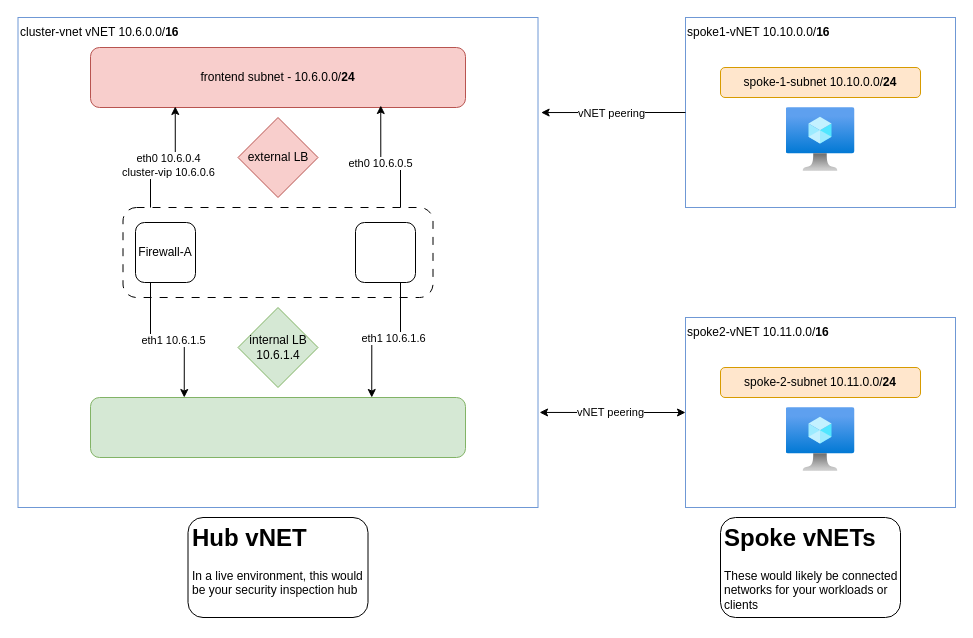
Image size: 973x638. Some labels were removed from this diagram. The shapes that lost their labels are listed below. From the top down, each one's box as (x1, y1, x2, y2) in pixels, then its label:
(122, 206, 433, 298): CPCluster
(354, 222, 416, 282): Firewall-B
(90, 396, 466, 458): backend subnet - 10.6.1.0/ 24
